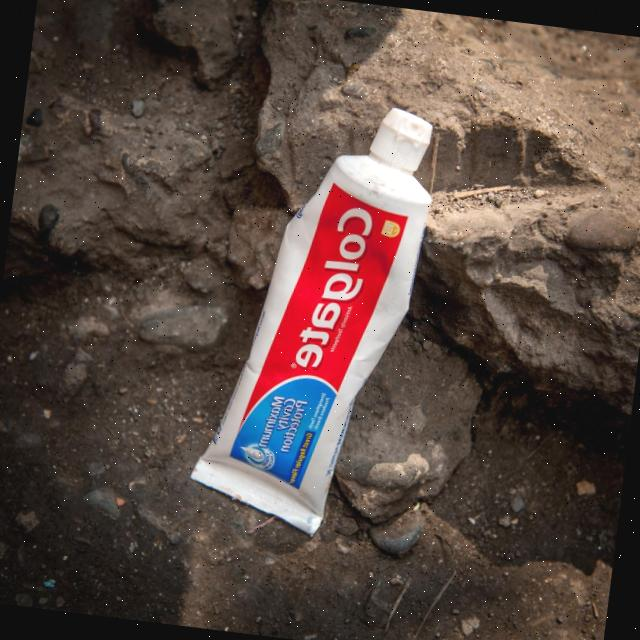Toothpaste: (181, 80, 448, 549)
